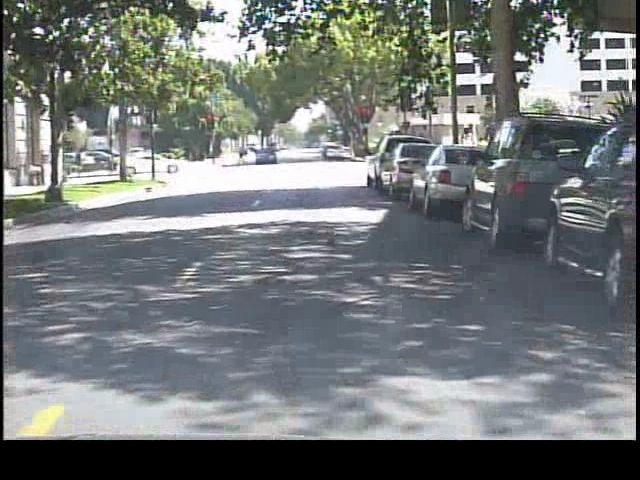person: (237, 142, 252, 166)
